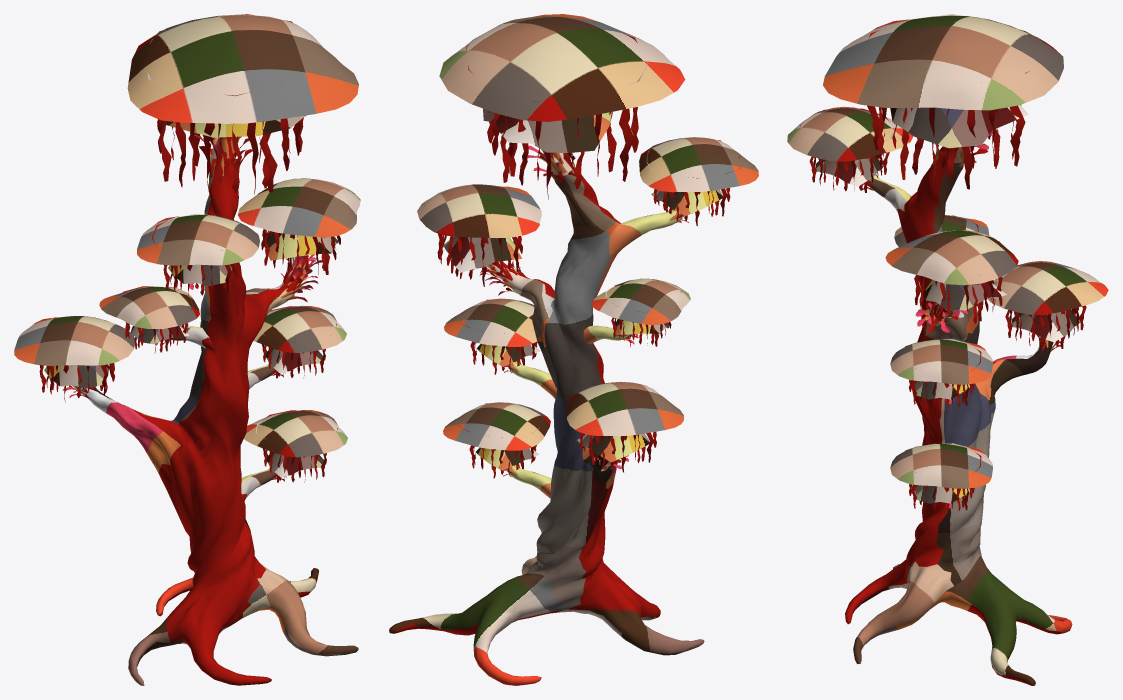
Rendered from jhay_tree5.glb.
The picture shows the model from 3 angles, left to right: view 1: azimuth 30°, elevation 25°; view 2: azimuth 150°, elevation 25°; view 3: azimuth 270°, elevation 25°; orthographic projection.
Visible parts, largest first — view 1: tree 5; view 2: tree 5; view 3: tree 5.
Part boxes in pixels (x1,y1,x2,y2): tree 5: (14,14,360,685); tree 5: (389,14,758,685); tree 5: (787,14,1108,685).
Size of the model in its own units: 3.2 by 6.28 by 3.01.
Materials: 2 (2 with a texture image).
